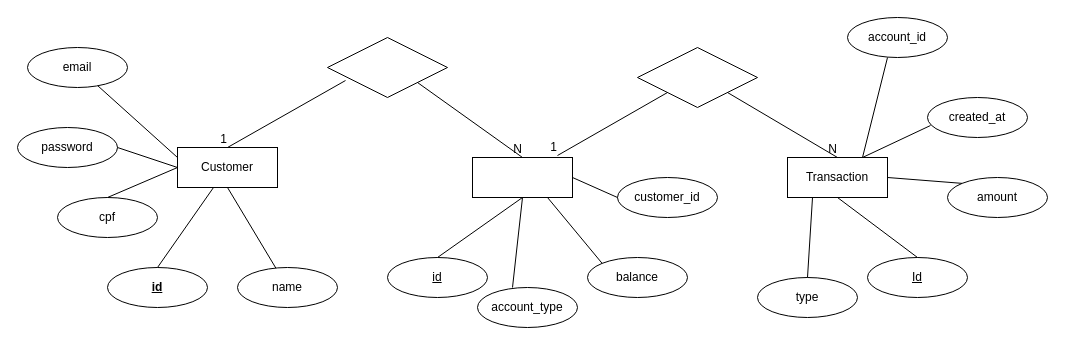
The diagram is 1065 pixels wide and 345 high, and some of its shapes have lost their labels. Here are the shapes that lost their labels. From the top down, the centre of each, then its label:
[387,67]: own
[697,77]: have
[522,177]: Account
